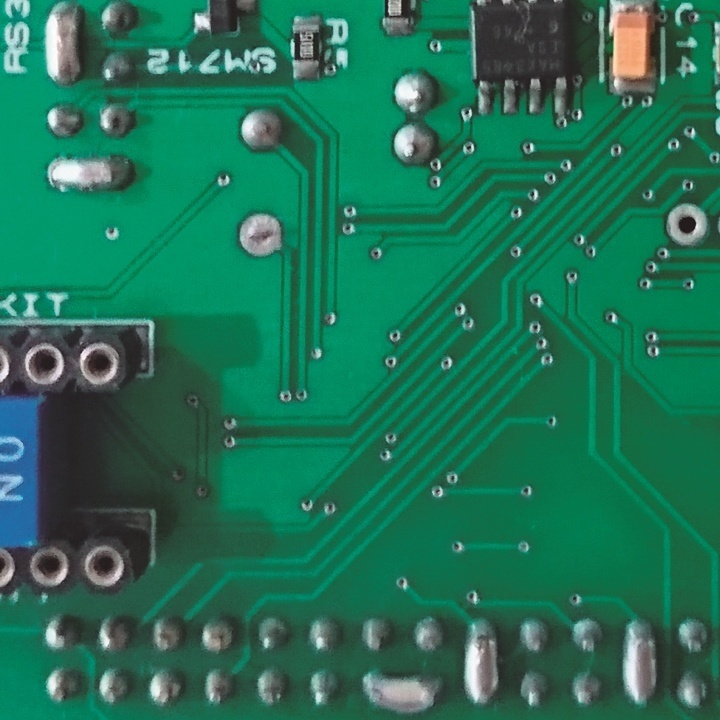F: (235, 209, 287, 259), (661, 202, 710, 249)
P: (44, 152, 137, 200), (358, 667, 447, 715), (461, 615, 503, 708), (42, 1, 86, 89), (621, 619, 657, 707)
